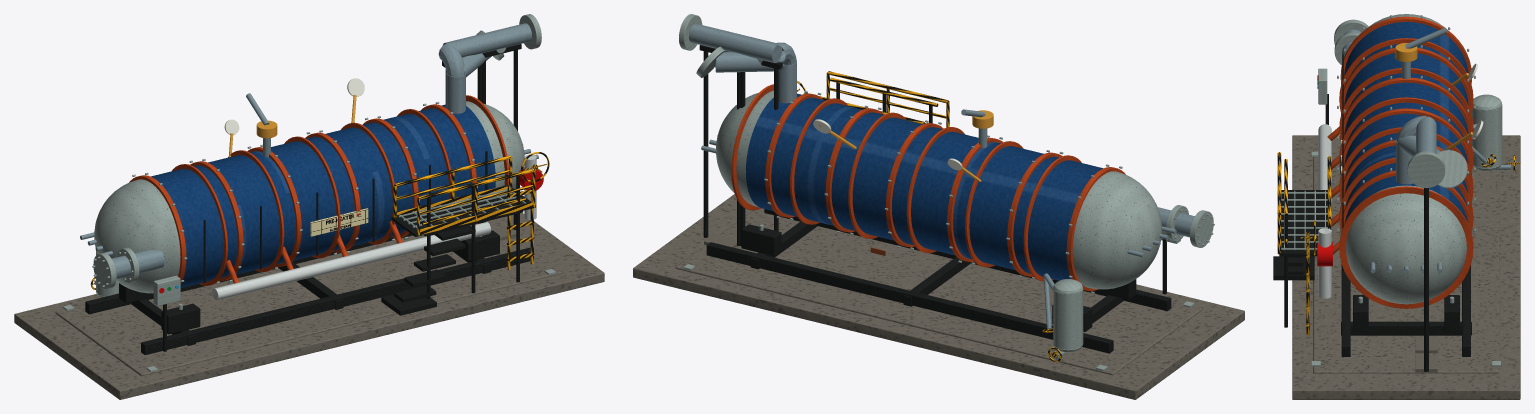
File: level5_preheater_industrial_uv.fbx
3 views of the same model, side by side, from view 1: azimuth 30°, elevation 25°; view 2: azimuth 150°, elevation 25°; view 3: azimuth 270°, elevation 25° (orthographic). The views are drawn at different scales.
Visible parts, largest first — view 1: L5_PreHeater_Blue_Insulated_Shell, L5_PreHeater_Concrete_Foundation, L5_PreHeater_Extended_Service_Pad, L5_PreHeater_Left_Dished_EndCap, L5_PreHeater_Skid_LongBeam_-1.1, L5_Steam_Manifold_Header, L5_PreHeater_Right_Dished_EndCap, Pipe_Preheater_Outlet_CleanHeader, L5_Service_Platform_ExpandedGrating_Frame, L5_PreHeater_Skid_LongBeam_+1.1, HeatingFin_Band_01, L5_Shell_Saddle_Base_-3.4_-0.8 (+21 smaller); view 2: L5_PreHeater_Blue_Insulated_Shell, L5_PreHeater_Concrete_Foundation, L5_PreHeater_Extended_Service_Pad, L5_PreHeater_Left_Dished_EndCap, L5_PreHeater_Skid_LongBeam_+1.1, L5_PreHeater_Right_Dished_EndCap, Pipe_Preheater_Outlet_CleanHeader, L5_Condensate_Pot_VerticalVessel, L5_PreHeater_Skid_LongBeam_-1.1, L5_Shell_Saddle_Base_+3.4_+0.8, L5_OutletPipeRack_Support_01_Post_R, HeatingFin_Band_05 (+16 smaller); view 3: L5_PreHeater_Concrete_Foundation, L5_PreHeater_Extended_Service_Pad, L5_PreHeater_Blue_Insulated_Shell, L5_PreHeater_Right_Dished_EndCap, HeatingFin_JacketClamp_05, L5_Service_Platform_ExpandedGrating_Frame, L5_Condensate_Pot_VerticalVessel, L5_PreHeater_Skid_CrossFrame_+3.3, L5_CleanOutlet_Flange, HeatingFin_JacketClamp_02, HeatingFin_JacketClamp_01, HeatingFin_Band_02 (+35 smaller).
Part boxes in pixels (box(x1,y1,x2,y2)): L5_PreHeater_Blue_Insulated_Shell: box(151, 104, 495, 287); L5_PreHeater_Concrete_Foundation: box(55, 220, 563, 376); L5_PreHeater_Extended_Service_Pad: box(14, 212, 604, 399); L5_PreHeater_Left_Dished_EndCap: box(94, 179, 180, 293); L5_PreHeater_Skid_LongBeam_-1.1: box(141, 247, 530, 354); L5_Steam_Manifold_Header: box(212, 222, 490, 300); L5_PreHeater_Right_Dished_EndCap: box(466, 101, 524, 189); Pipe_Preheater_Outlet_CleanHeader: box(442, 23, 531, 57); L5_Service_Platform_ExpandedGrating_Frame: box(391, 188, 535, 236); L5_PreHeater_Skid_LongBeam_+1.1: box(85, 233, 412, 314); HeatingFin_Band_01: box(190, 161, 243, 281); L5_Shell_Saddle_Base_-3.4_-0.8: box(161, 303, 200, 334); L5_PreHeater_Blue_Insulated_Shell: box(746, 93, 1103, 280); L5_PreHeater_Concrete_Foundation: box(675, 208, 1202, 375); L5_PreHeater_Extended_Service_Pad: box(633, 194, 1244, 399); L5_PreHeater_Left_Dished_EndCap: box(1072, 171, 1161, 289); L5_PreHeater_Skid_LongBeam_+1.1: box(706, 242, 1113, 353); L5_PreHeater_Right_Dished_EndCap: box(716, 90, 773, 207); Pipe_Preheater_Outlet_CleanHeader: box(689, 23, 781, 62); L5_Condensate_Pot_VerticalVessel: box(1053, 288, 1083, 349); L5_PreHeater_Skid_LongBeam_-1.1: box(764, 209, 1171, 310); L5_Shell_Saddle_Base_+3.4_+0.8: box(741, 224, 781, 256); L5_OutletPipeRack_Support_01_Post_R: box(703, 51, 708, 237); HeatingFin_Band_05: box(765, 93, 823, 217); L5_PreHeater_Concrete_Foundation: box(1313, 150, 1499, 373); L5_PreHeater_Extended_Service_Pad: box(1292, 135, 1520, 399); L5_PreHeater_Blue_Insulated_Shell: box(1344, 22, 1468, 222); L5_PreHeater_Right_Dished_EndCap: box(1346, 185, 1466, 304); HeatingFin_JacketClamp_05: box(1339, 186, 1473, 308); L5_Service_Platform_ExpandedGrating_Frame: box(1279, 190, 1327, 256); L5_Condensate_Pot_VerticalVessel: box(1471, 104, 1502, 168); L5_PreHeater_Skid_CrossFrame_+3.3: box(1341, 321, 1471, 335); L5_CleanOutlet_Flange: box(1407, 151, 1445, 188); HeatingFin_JacketClamp_02: box(1339, 97, 1473, 170); HeatingFin_JacketClamp_01: box(1339, 68, 1473, 140); HeatingFin_Band_02: box(1340, 77, 1471, 143).
Bounding box in the file's own units: 1085 × 478 × 444.
1 material, 1 textured.
